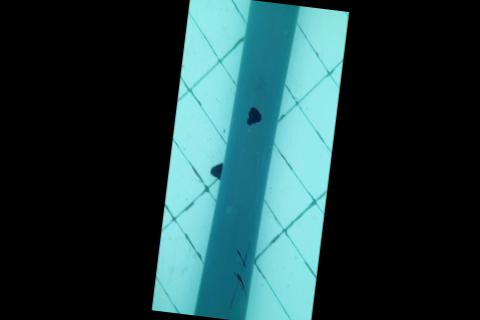kebocoran: (244, 106, 264, 128)
keretakan: (228, 243, 252, 314)
